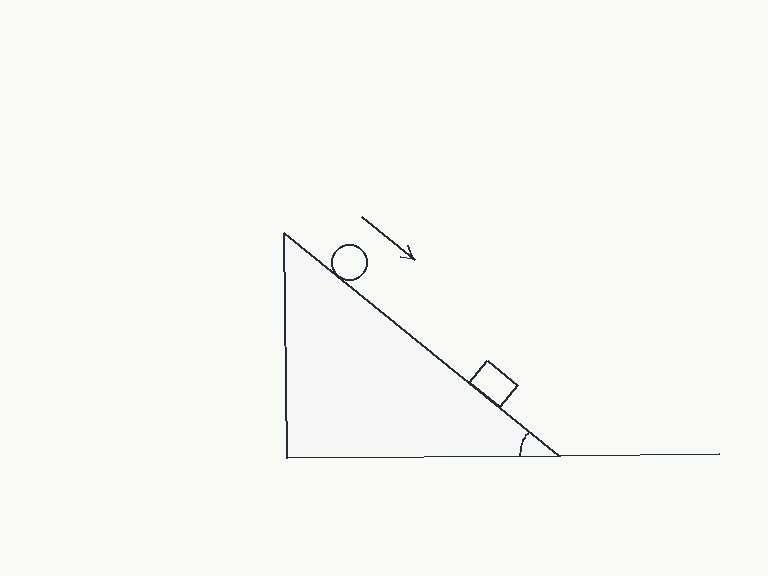ball: (329, 242, 369, 282)
block: (467, 358, 520, 409)
ramp: (283, 231, 562, 458)
